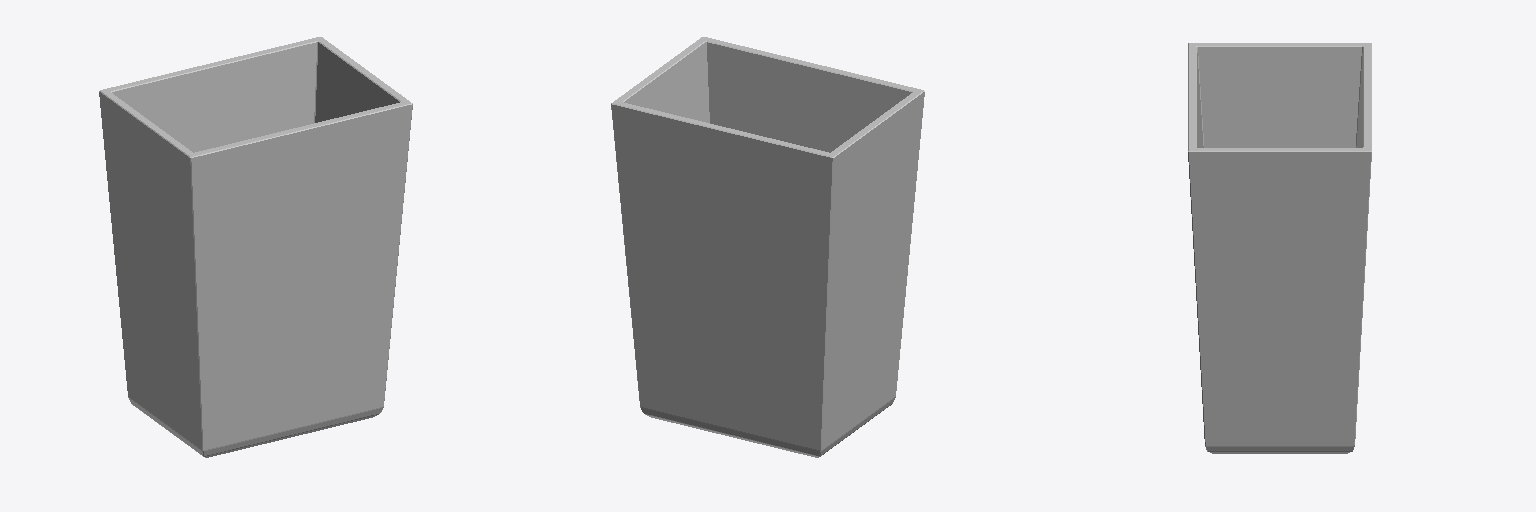
The model's file is trashcan.obj.
3 renders of one model, left to right at view 1: azimuth 30°, elevation 25°; view 2: azimuth 150°, elevation 25°; view 3: azimuth 270°, elevation 25°, orthographic.
Size of the model in its own units: 25.75 by 35.16 by 18.43.